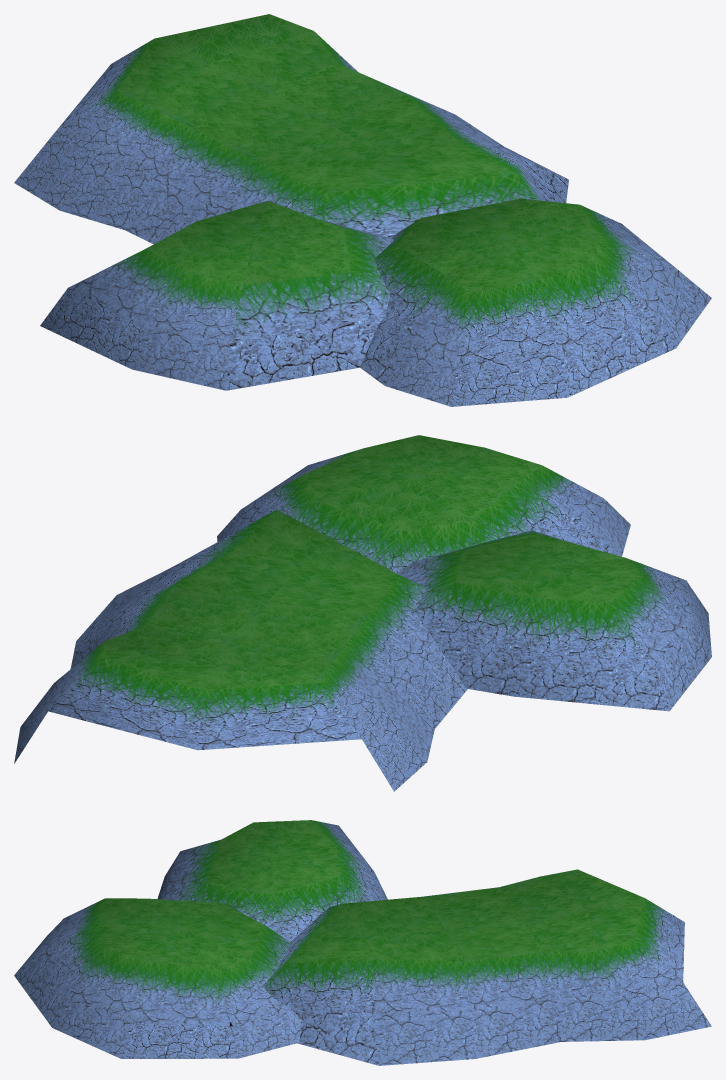
Rendered from track_chinese_env_terrain_01.FBX.
3 views of the same model, one above another, from view 1: azimuth 30°, elevation 25°; view 2: azimuth 150°, elevation 25°; view 3: azimuth 270°, elevation 25° (orthographic). The views are drawn at different scales.
Parts seen in each view (by area): view 1: track_chinese_env_terrain_01; view 2: track_chinese_env_terrain_01; view 3: track_chinese_env_terrain_01.
Boxes of the visible parts, left/top/right/bottom form: track_chinese_env_terrain_01: left=14, top=14, right=711, bottom=406; track_chinese_env_terrain_01: left=14, top=435, right=711, bottom=791; track_chinese_env_terrain_01: left=14, top=820, right=711, bottom=1065.
Bounding box in the file's own units: 373 × 55.73 × 506.
